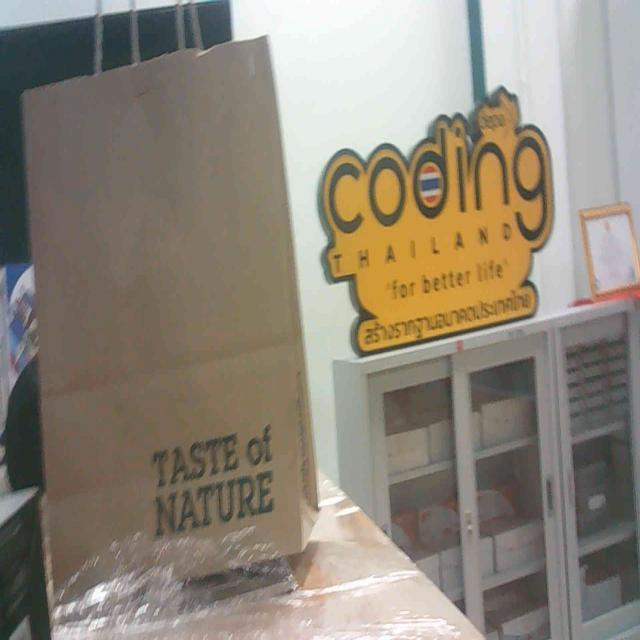bag: (15, 0, 340, 625)
